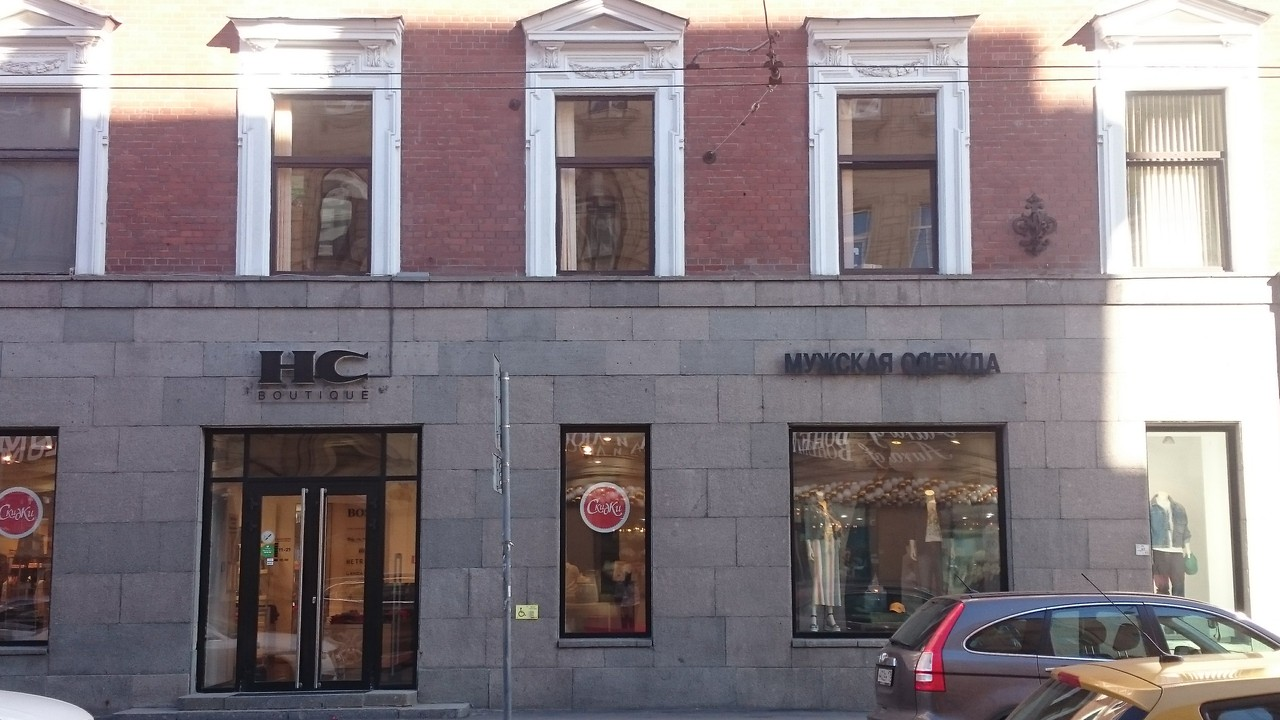door: (236, 478, 376, 690)
signboard: (252, 349, 372, 405), (784, 347, 1001, 377)
window: (798, 422, 1005, 637), (563, 423, 649, 643), (1124, 93, 1227, 270), (557, 92, 655, 273), (273, 97, 373, 273), (1147, 425, 1241, 607), (842, 93, 937, 272), (1, 93, 78, 275), (206, 428, 417, 480)
